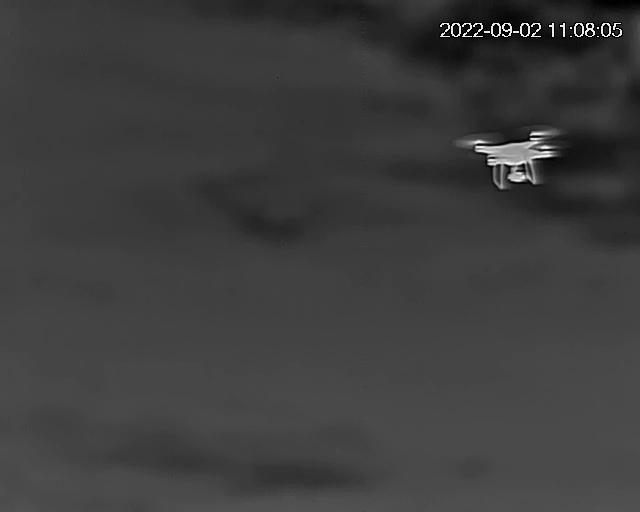DJI-Phantom: (461, 129, 567, 192)
